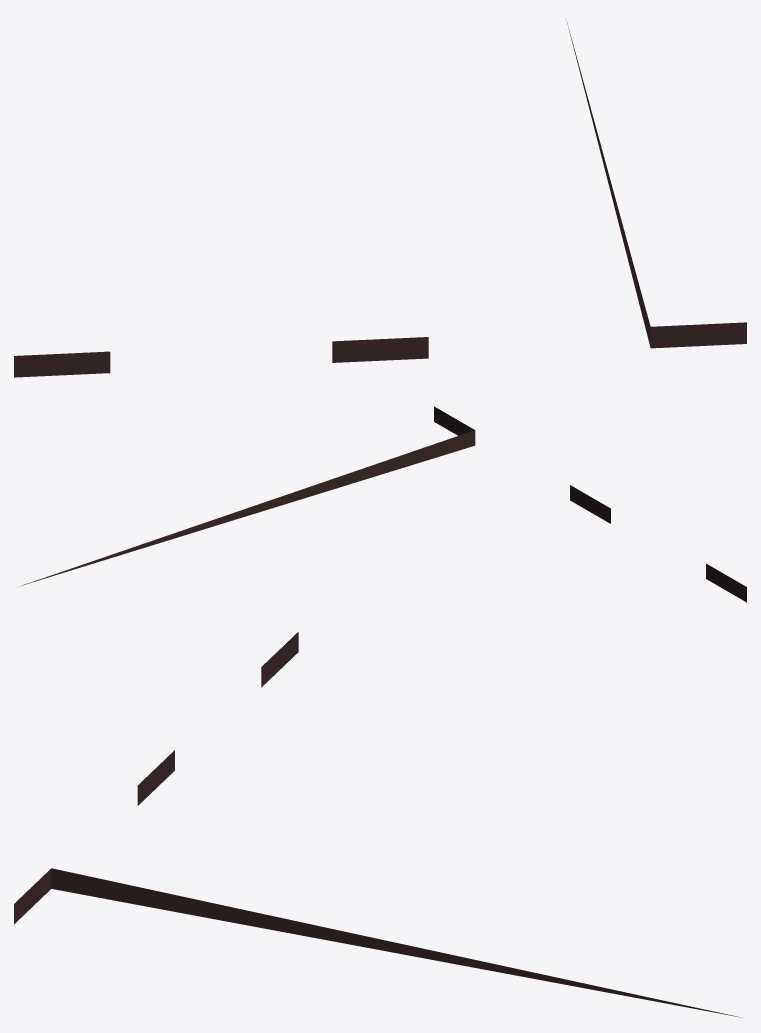
3 views of the same model, one above another, from view 1: azimuth 30°, elevation 25°; view 2: azimuth 150°, elevation 25°; view 3: azimuth 270°, elevation 25° (orthographic). The views are drawn at different scales.
Bounding box in the file's own units: 2.43 × 0.064 × 2.06.
